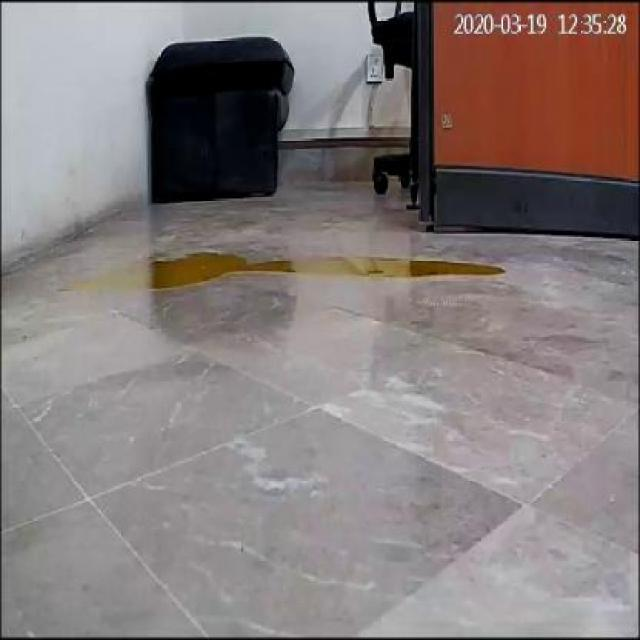spill: (46, 253, 506, 293)
